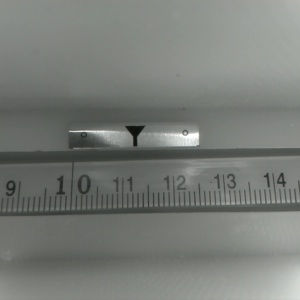0: (77, 174, 90, 194)
1: (56, 176, 65, 195), (163, 175, 169, 191), (263, 172, 269, 188), (113, 177, 119, 193), (213, 174, 219, 189)
2: (176, 175, 186, 190)
3: (226, 174, 235, 189)
4: (276, 172, 286, 187)
9: (4, 180, 15, 196)
finger: (122, 125, 145, 148)
